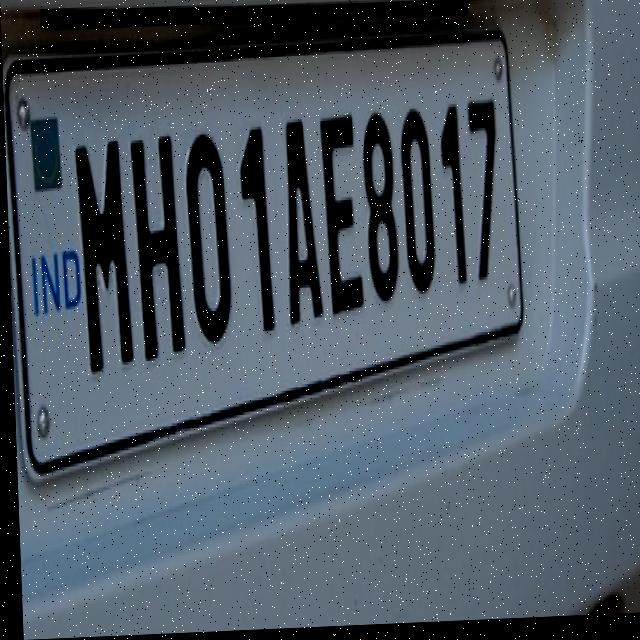plate: (2, 26, 528, 483)
